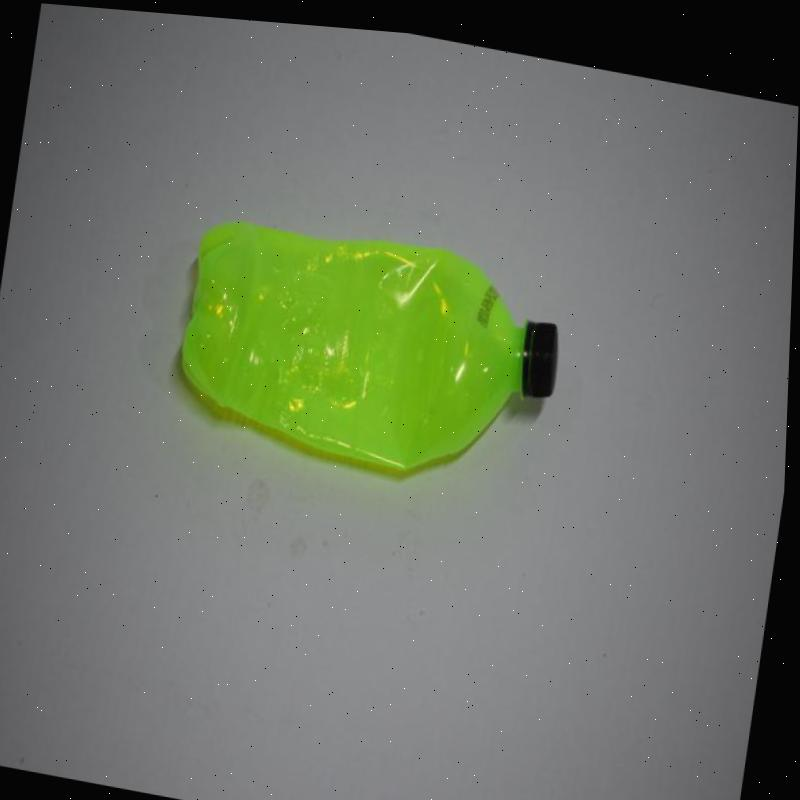botella: (167, 196, 572, 489)
